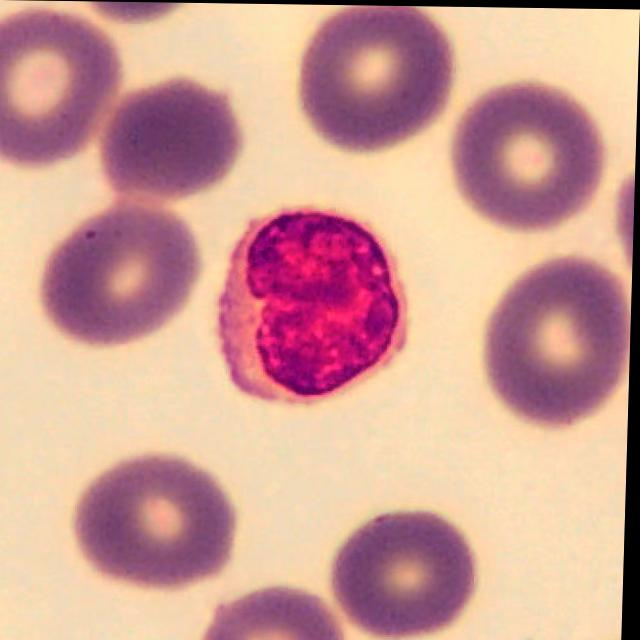Linfocito: (218, 208, 412, 403)
